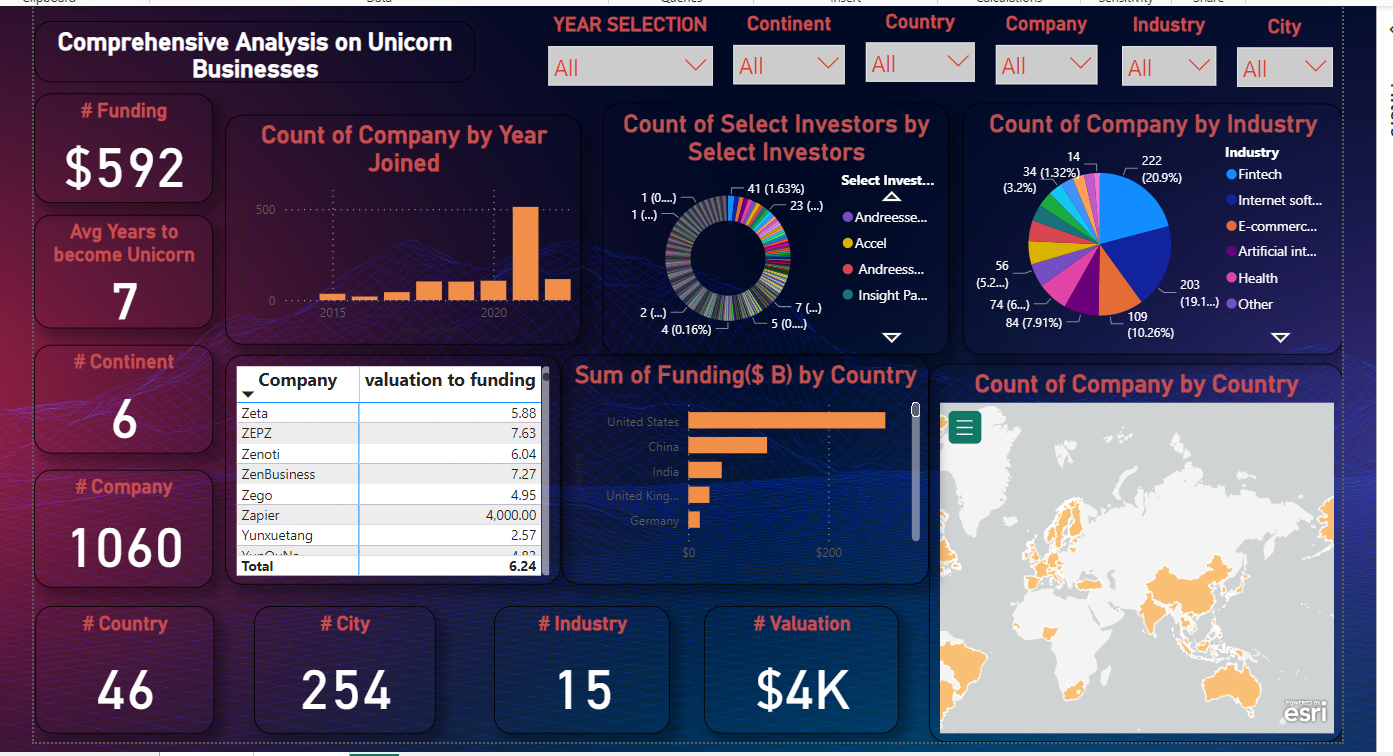

Layout of this report page (visuals, bound fields, positions):
{"tool":"powerbi","page":{"name":"Page 1","canvas":[1280,720],"ordinal":0},"visuals":[{"type":"slicer","title":"YEAR SELECTION","fields":{"Values":["Unicorn_Companies.Year Joined"]},"box":[492.6,7.3,180.9,72.1],"z":0},{"type":"slicer","title":"Continent","fields":{"Values":["Unicorn_Companies.Continent"]},"box":[673.5,6.1,129.6,81.9],"z":1000},{"type":"slicer","title":"Country","fields":{"Values":["Unicorn_Companies.Country"]},"box":[803.1,3.7,127.1,81.9],"z":2000},{"type":"slicer","title":"Company","fields":{"Values":["Unicorn_Companies.Company"]},"box":[930.3,6.1,119.8,83.1],"z":3000},{"type":"slicer","title":"Industry","fields":{"Values":["Unicorn_Companies.Industry"]},"box":[1053.7,7.3,112.5,81.9],"z":4000},{"type":"slicer","title":"City","fields":{"Values":["Unicorn_Companies.City"]},"box":[1166.2,8.6,113.7,80.7],"z":5000},{"type":"card","title":"Avg Years to become Unicorn","fields":{"Values":["Unicorn_Companies.avg years to become unicorn"]},"box":[0,204.1,174.8,111.2],"z":6000},{"type":"pivotTable","fields":{"Rows":["Unicorn_Companies.Company"],"Values":["Unicorn_Companies.valuation to funding"]},"box":[187,341.1,327.6,224.9],"z":7000},{"type":"columnChart","fields":{"Category":["Unicorn_Companies.Year Joined"],"Y":["CountNonNull(Unicorn_Companies.Company)"]},"box":[188.3,106.3,348.4,224.9],"z":8000},{"type":"esriVisual","fields":{"Location":["Unicorn_Companies.Country"],"Size":["CountNonNull(Unicorn_Companies.Company)"]},"box":[875.2,349.6,404.6,370.4],"z":9000},{"type":"card","title":"# Company","fields":{"Values":["Count(Unicorn_Companies.Company)"]},"box":[0,453.5,174.8,114.9],"z":10000},{"type":"card","title":"# Continent","fields":{"Values":["Count(Unicorn_Companies.Continent)"]},"box":[2.4,341.1,174.8,106.3],"z":11000},{"type":"card","title":"# Country","fields":{"Values":["Count(Unicorn_Companies.Country)"]},"box":[1.2,586.8,174.8,124.7],"z":12000},{"type":"card","title":"# City","fields":{"Values":["Count(Unicorn_Companies.City)"]},"box":[215.1,586.8,177.2,124.7],"z":13000},{"type":"card","title":"# Industry","fields":{"Values":["Count(Unicorn_Companies.Industry)"]},"box":[449.8,586.8,172.4,124.7],"z":14000},{"type":"card","title":"# Funding","fields":{"Values":["Sum(Unicorn_Companies.Funding($ B))"]},"box":[0,85.6,174.8,107.6],"z":15000},{"type":"card","title":"# Valuation","fields":{"Values":["Sum(Unicorn_Companies.Valuation($ B))"]},"box":[655.2,586.8,190.7,124.7],"z":16000},{"type":"pieChart","fields":{"Category":["Unicorn_Companies.Industry"],"Y":["CountNonNull(Unicorn_Companies.Company)"]},"box":[908.3,95.3,371.6,245.7],"z":17000},{"type":"donutChart","fields":{"Category":["Investor_Data.Select Investors"],"Y":["CountNonNull(Investor_Data.Select Investors)"]},"box":[536.6,95.3,358.2,245.7],"z":18000},{"type":"textbox","title":"Comprehensive Analysis on Unicorn Businesses","box":[41.6,8.6,386.3,74.6],"z":19000},{"type":"barChart","fields":{"Category":["Unicorn_Companies.Country"],"Y":["Sum(Unicorn_Companies.Funding($ B))"]},"box":[515.9,341.1,359.4,224.9],"z":20000}]}

Visuals, with their boxes on the page's 1280x720 design canvas (x1, y1, x2, y2). These are canvas units, not pixel positions in the 1393x756 screenshot, which may show the page scaled, cropped or inside an application window:
"YEAR SELECTION" slicer: [x1=493, y1=7, x2=674, y2=79]
"Continent" slicer: [x1=674, y1=6, x2=803, y2=88]
"Country" slicer: [x1=803, y1=4, x2=930, y2=86]
"Company" slicer: [x1=930, y1=6, x2=1050, y2=89]
"Industry" slicer: [x1=1054, y1=7, x2=1166, y2=89]
"City" slicer: [x1=1166, y1=9, x2=1280, y2=89]
"Avg Years to become Unicorn" card: [x1=0, y1=204, x2=175, y2=315]
pivotTable - Unicorn_Companies.Company x Unicorn_Companies.valuation to funding: [x1=187, y1=341, x2=515, y2=566]
columnChart - Unicorn_Companies.Year Joined x CountNonNull(Unicorn_Companies.Company): [x1=188, y1=106, x2=537, y2=331]
esriVisual - Unicorn_Companies.Country x CountNonNull(Unicorn_Companies.Company): [x1=875, y1=350, x2=1280, y2=720]
"# Company" card: [x1=0, y1=454, x2=175, y2=568]
"# Continent" card: [x1=2, y1=341, x2=177, y2=447]
"# Country" card: [x1=1, y1=587, x2=176, y2=712]
"# City" card: [x1=215, y1=587, x2=392, y2=712]
"# Industry" card: [x1=450, y1=587, x2=622, y2=712]
"# Funding" card: [x1=0, y1=86, x2=175, y2=193]
"# Valuation" card: [x1=655, y1=587, x2=846, y2=712]
pieChart - Unicorn_Companies.Industry x CountNonNull(Unicorn_Companies.Company): [x1=908, y1=95, x2=1280, y2=341]
donutChart - Investor_Data.Select Investors x CountNonNull(Investor_Data.Select Investors): [x1=537, y1=95, x2=895, y2=341]
"Comprehensive Analysis on Unicorn Businesses" textbox: [x1=42, y1=9, x2=428, y2=83]
barChart - Unicorn_Companies.Country x Sum(Unicorn_Companies.Funding($ B)): [x1=516, y1=341, x2=875, y2=566]
